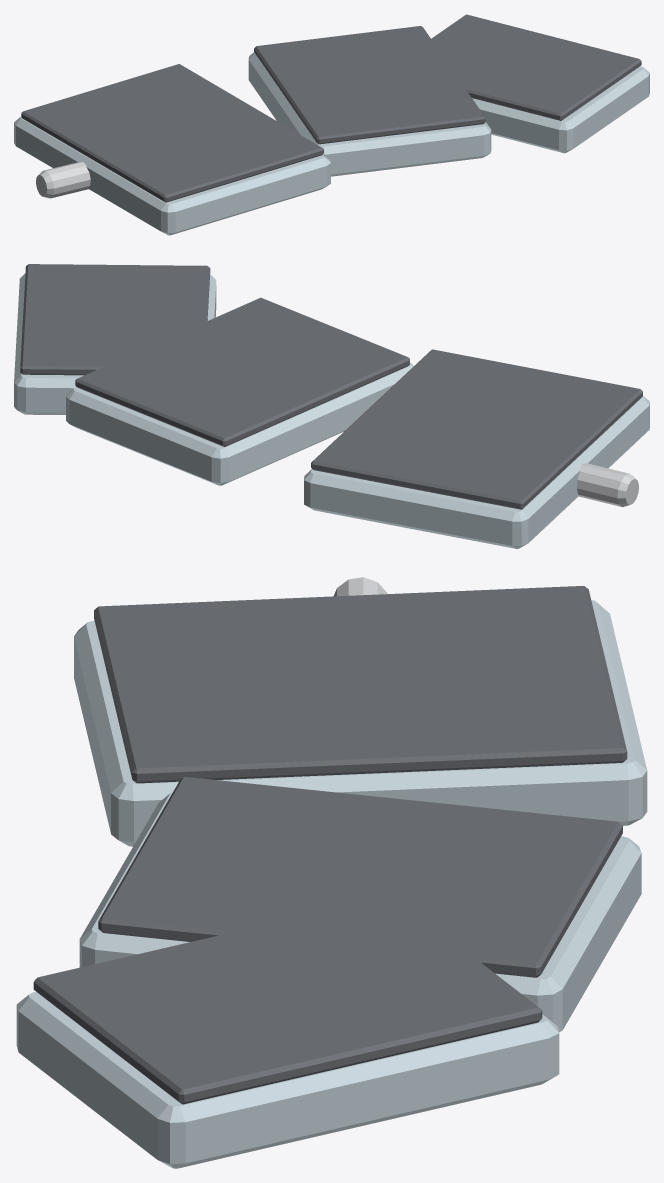
File: police-station-and-detective-office-evidence-bag-set-7e1da84c__29971.glb
3 views of the same model, one above another, from view 1: azimuth 30°, elevation 25°; view 2: azimuth 150°, elevation 25°; view 3: azimuth 270°, elevation 25° (orthographic). The views are drawn at different scales.
Visible parts, largest first — view 1: evidence-bag-set; view 2: evidence-bag-set; view 3: evidence-bag-set.
Boxes of the visible parts, x1,y1,x2,y2 form: evidence-bag-set: (14, 14, 649, 235); evidence-bag-set: (14, 264, 649, 548); evidence-bag-set: (16, 577, 647, 1168).
Bounding box in the file's own units: 0.625 × 0.042 × 0.3043.
